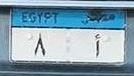8: (33, 31, 48, 57)
alif: (92, 32, 102, 60)
